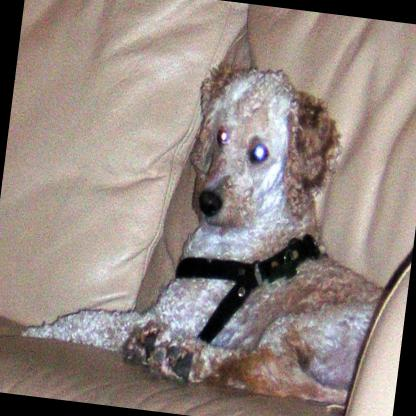miniature_poodle: (12, 37, 407, 416)
